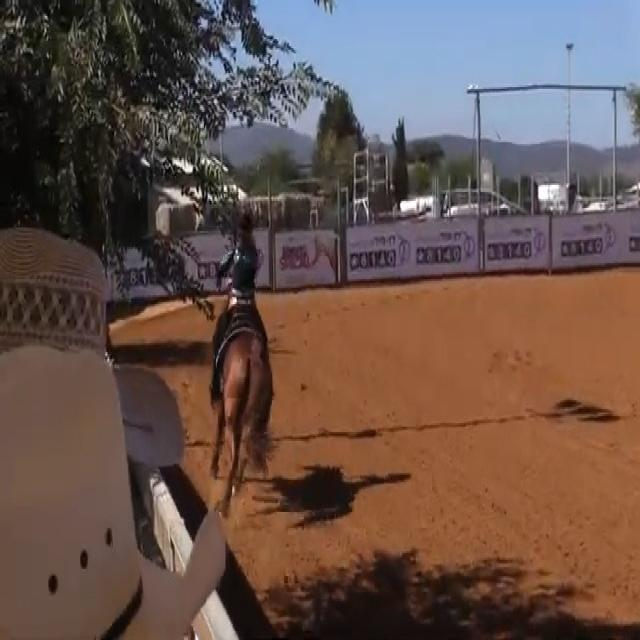horse: (206, 284, 275, 518)
